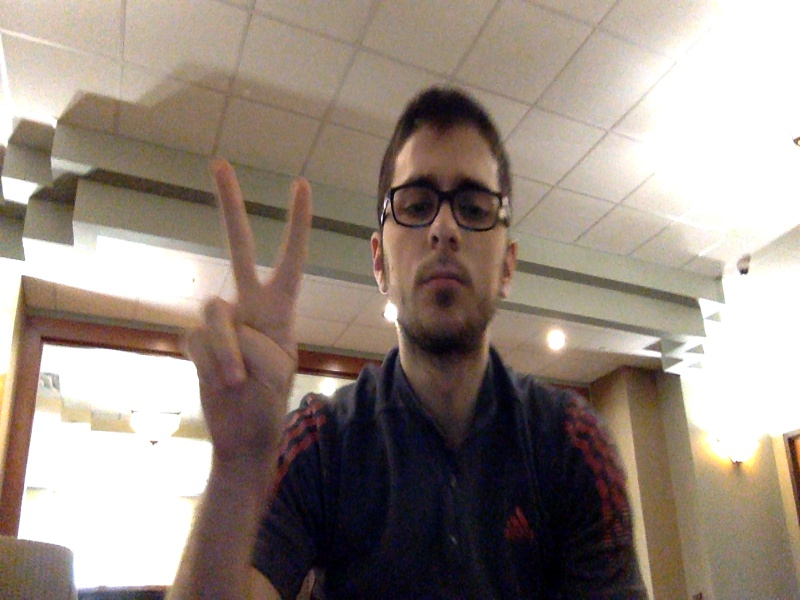2-hand: (191, 162, 308, 455)
